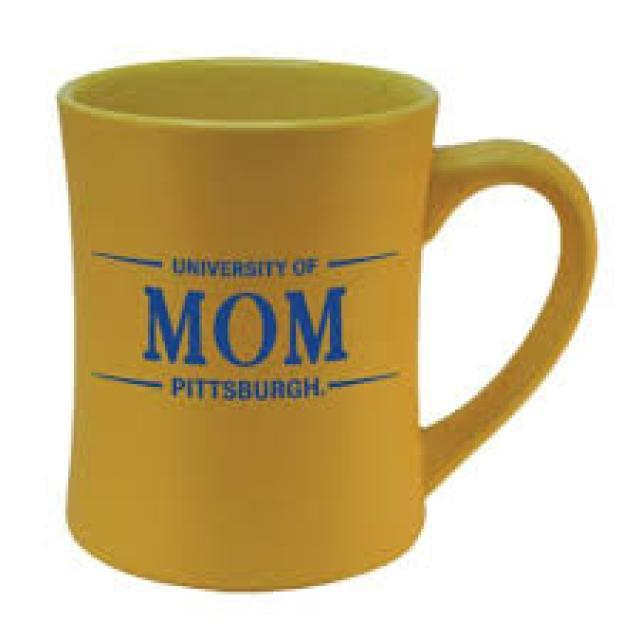taza: (55, 53, 599, 592)
